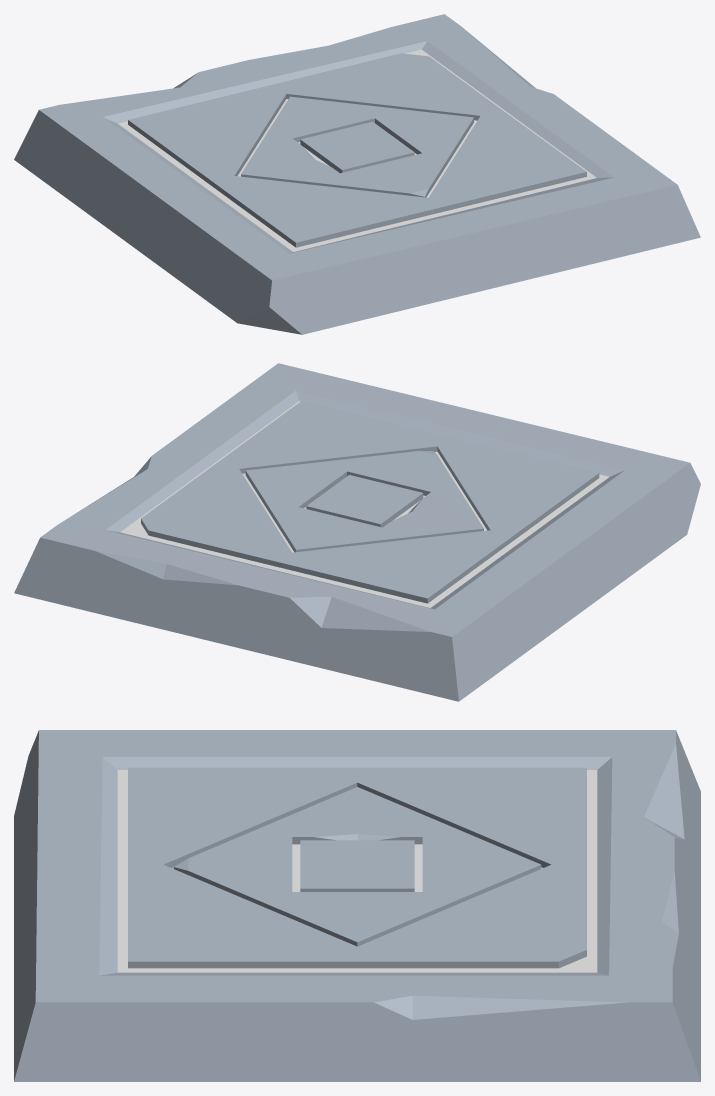
The model's file is plate_2.fbx.
The picture shows the model from 3 angles, top to bottom: view 1: azimuth 30°, elevation 25°; view 2: azimuth 150°, elevation 25°; view 3: azimuth 270°, elevation 25°; orthographic projection. The views are drawn at different scales.
Parts seen in each view (by area): view 1: plate_2; view 2: plate_2; view 3: plate_2.
Boxes of the visible parts, x1,y1,x2,y2 form: plate_2: (14,14,700,334); plate_2: (14,363,700,701); plate_2: (14,730,700,1081).
Size of the model in its own units: 8.63 by 1 by 8.63.
